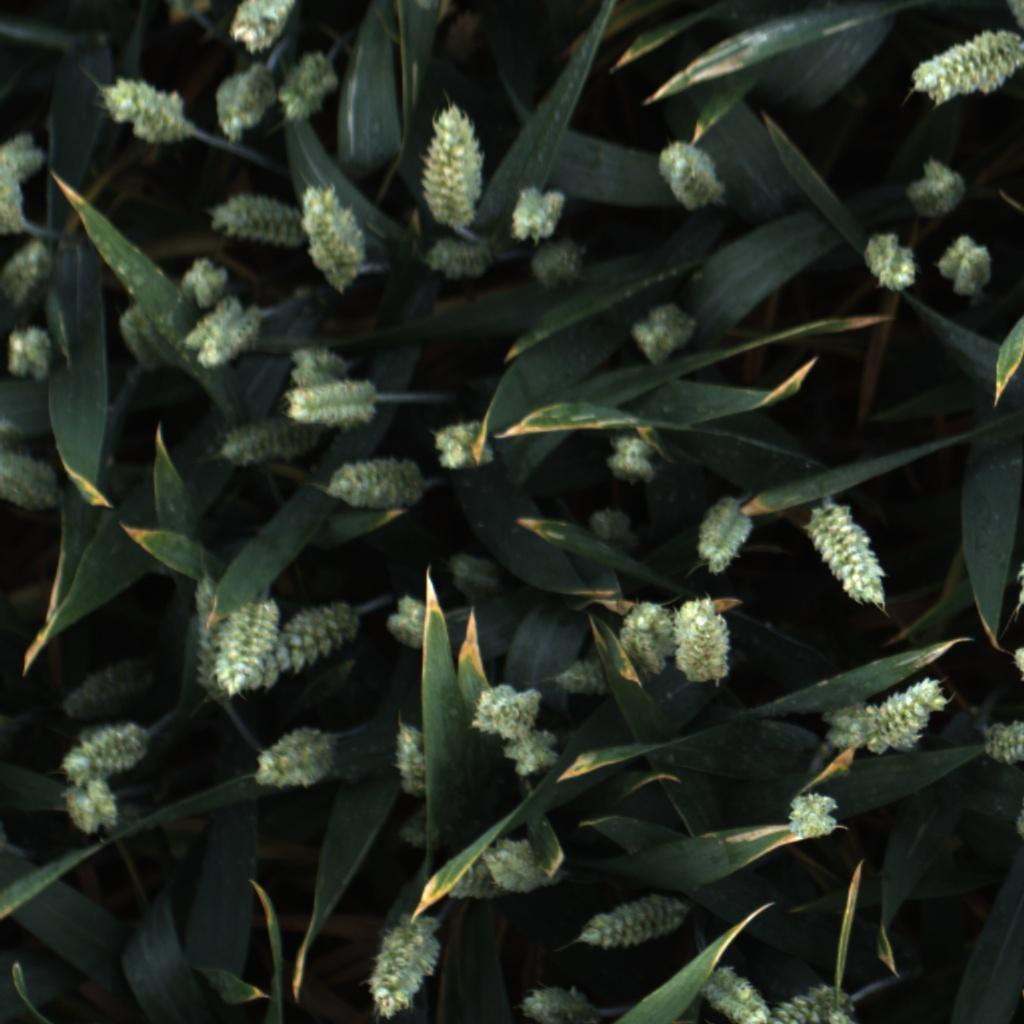0-0: (288, 177, 377, 294), (805, 501, 895, 610), (418, 99, 488, 234), (362, 910, 444, 1020), (184, 573, 248, 712), (907, 30, 1024, 106), (94, 68, 191, 154), (176, 295, 275, 377), (669, 595, 752, 692), (205, 602, 283, 705), (271, 592, 360, 675), (866, 672, 951, 755), (575, 894, 685, 957), (204, 186, 302, 255), (251, 719, 339, 794), (414, 856, 573, 897), (320, 453, 430, 512), (209, 413, 324, 469), (61, 654, 156, 720), (651, 135, 730, 212), (59, 721, 151, 787), (280, 372, 381, 432), (612, 594, 681, 679), (692, 489, 757, 577), (213, 64, 280, 146), (281, 332, 365, 397), (630, 297, 700, 369), (278, 45, 340, 122), (480, 831, 553, 896), (111, 302, 176, 373), (704, 962, 775, 1024), (506, 179, 570, 247), (2, 448, 63, 519), (935, 236, 998, 304), (861, 225, 921, 296), (2, 236, 58, 310), (777, 786, 845, 845), (473, 680, 544, 736), (904, 158, 966, 221), (229, 0, 296, 58), (578, 506, 646, 563), (603, 428, 667, 487), (442, 545, 507, 603), (420, 239, 497, 286), (495, 726, 563, 779), (816, 694, 885, 746), (525, 237, 589, 293), (515, 984, 603, 1024), (426, 420, 496, 470), (62, 781, 121, 840), (175, 247, 232, 308), (389, 720, 430, 799), (770, 982, 847, 1024), (548, 652, 611, 703), (2, 124, 44, 198), (5, 324, 57, 383), (385, 594, 433, 653), (979, 716, 1024, 769)
